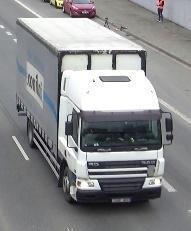Car: (62, 0, 97, 18), (49, 0, 64, 8)
Person: (155, 0, 164, 22)
Truck: (14, 12, 170, 205)
